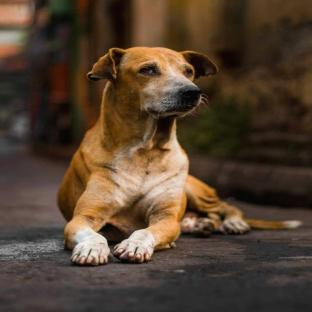Animal: (58, 47, 301, 265)
